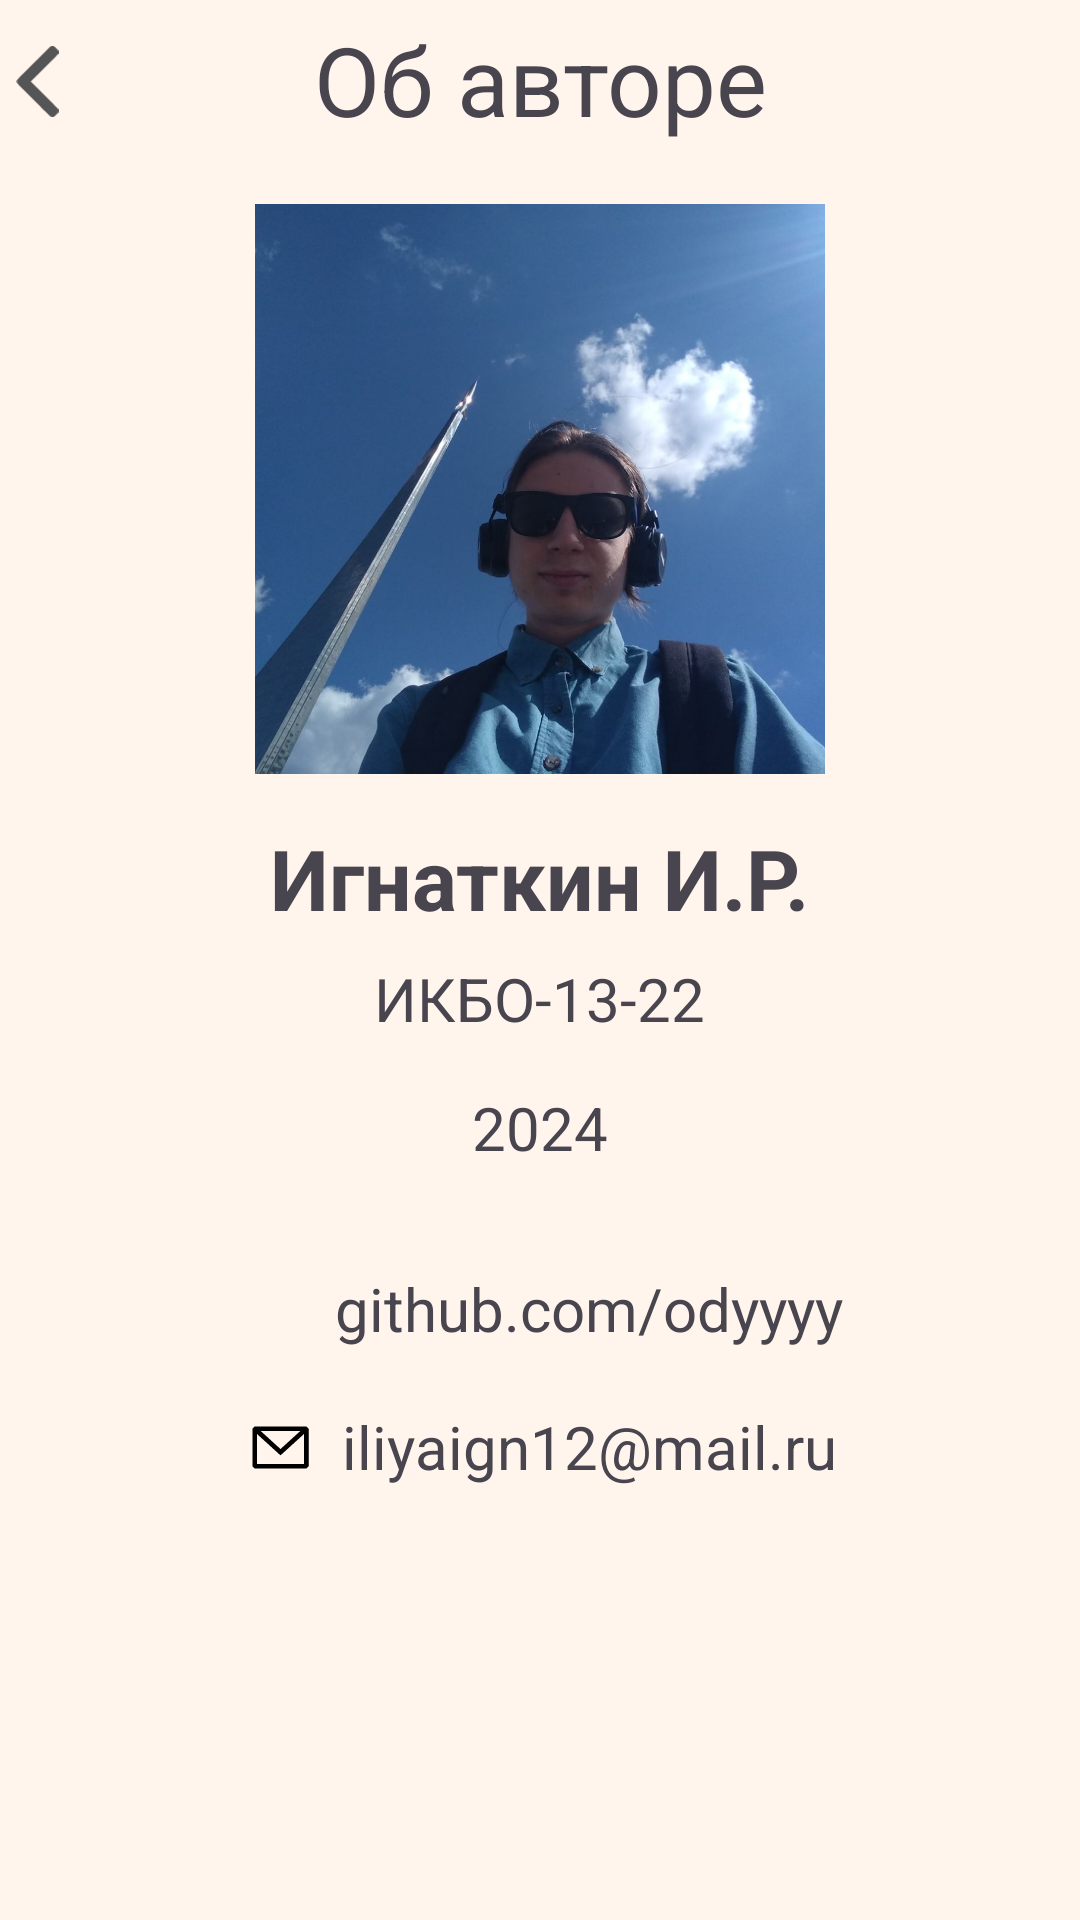

Screen size 1080 × 1920. Icon name, then its center in pixels as [x,y]:
email: [280,1447]
